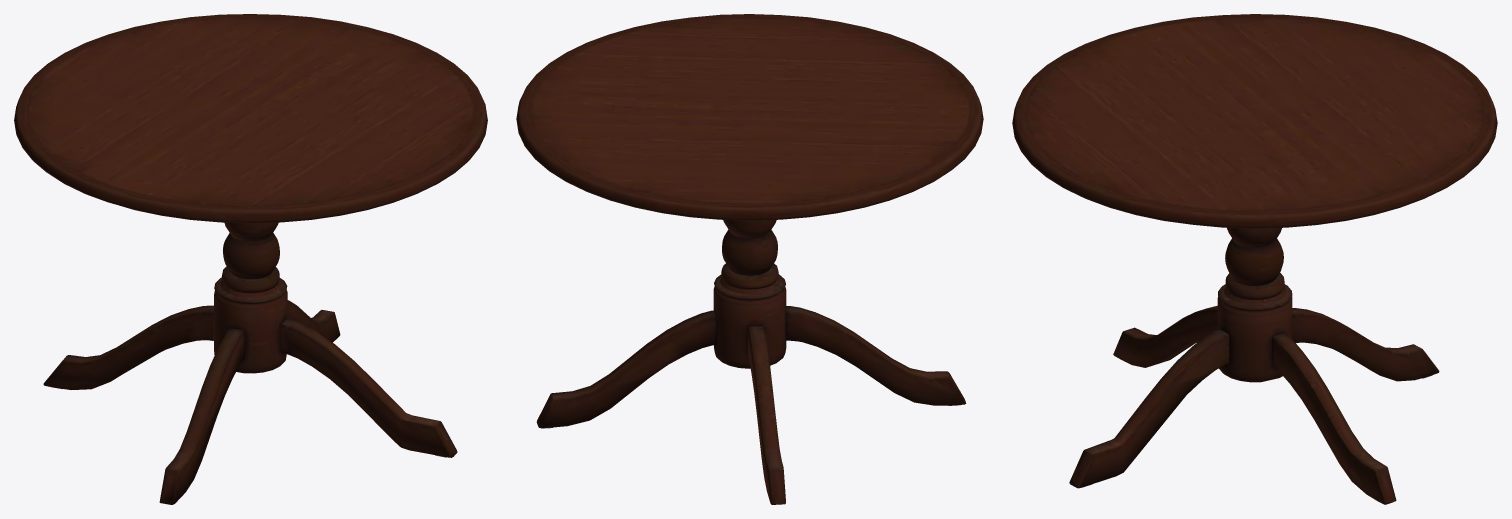
Rendered from round_wooden_table_01.glb.
3 renders of one model, left to right at view 1: azimuth 30°, elevation 25°; view 2: azimuth 150°, elevation 25°; view 3: azimuth 270°, elevation 25°, orthographic. The views are drawn at different scales.
Visible parts, largest first — view 1: round_wooden_table_01; view 2: round_wooden_table_01; view 3: round_wooden_table_01.
Part boxes in pixels (x1,y1,x2,y2): round_wooden_table_01: [14, 14, 487, 504]; round_wooden_table_01: [516, 14, 983, 504]; round_wooden_table_01: [1012, 14, 1497, 504].
Bounding box in the file's own units: 1.4 × 1 × 1.4.
Materials: 1 (1 with a texture image).
